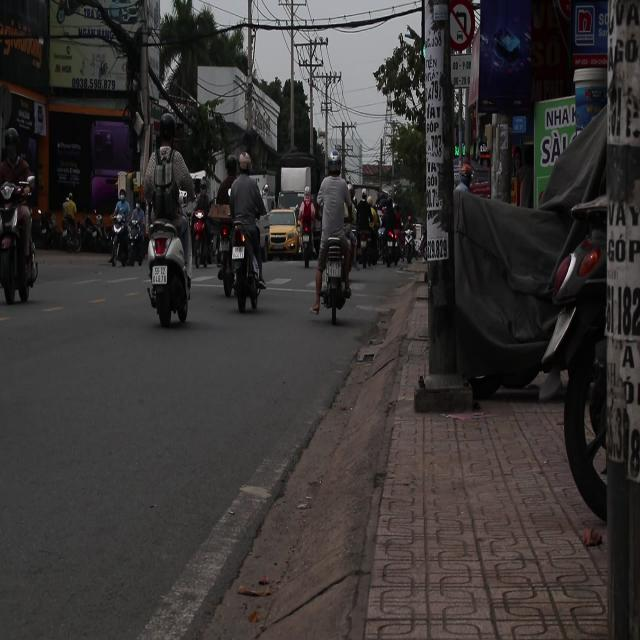car: (266, 208, 301, 258)
motorbike: (144, 218, 192, 330), (0, 173, 40, 304), (227, 213, 263, 321), (324, 236, 354, 328), (190, 200, 214, 270), (73, 212, 106, 253), (60, 204, 84, 253), (125, 219, 146, 268)
truck: (276, 158, 314, 211)
